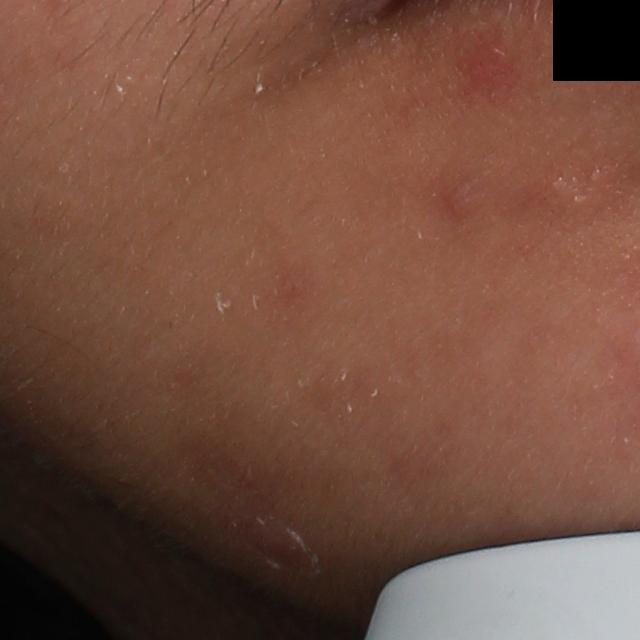papule: (457, 30, 526, 81), (443, 179, 485, 222)
